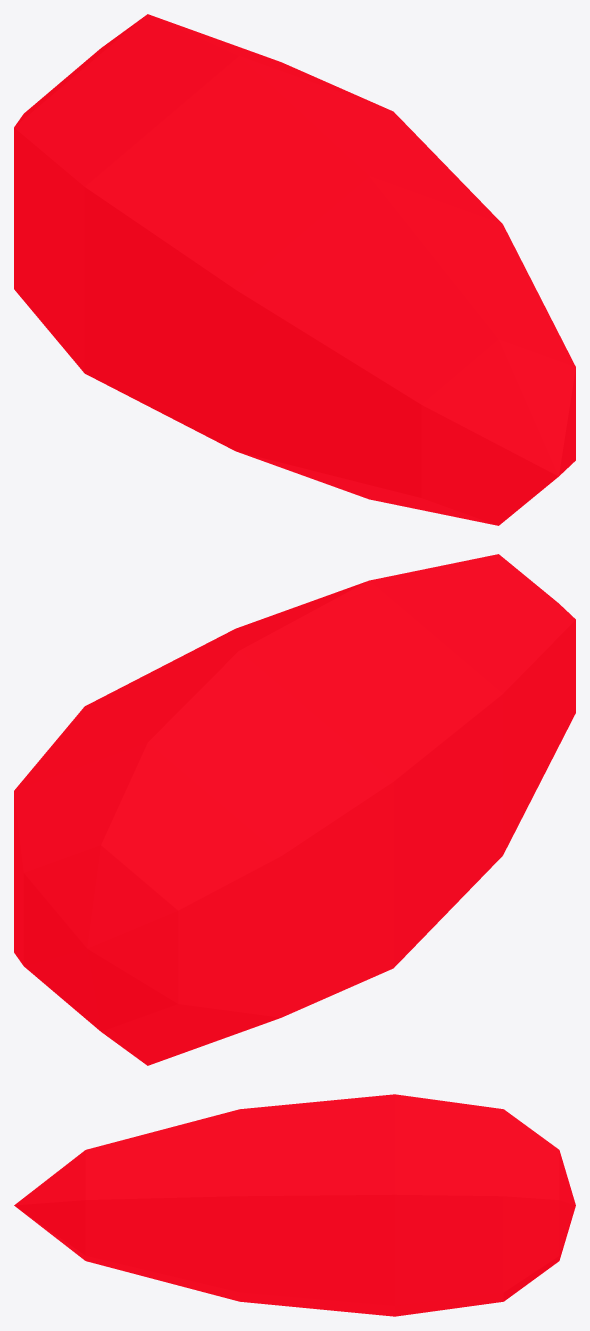
The model's file is projectil.glb.
3 views of the same model, one above another, from view 1: azimuth 30°, elevation 25°; view 2: azimuth 150°, elevation 25°; view 3: azimuth 270°, elevation 25° (orthographic). The views are drawn at different scales.
Parts seen in each view (by area): view 1: Sphere.001; view 2: Sphere.001; view 3: Sphere.001.
Boxes of the visible parts, x1,y1,x2,y2 form: Sphere.001: [14, 14, 575, 525]; Sphere.001: [14, 554, 575, 1065]; Sphere.001: [14, 1094, 575, 1316].
Size of the model in its own units: 1.73 by 2 by 4.58.
